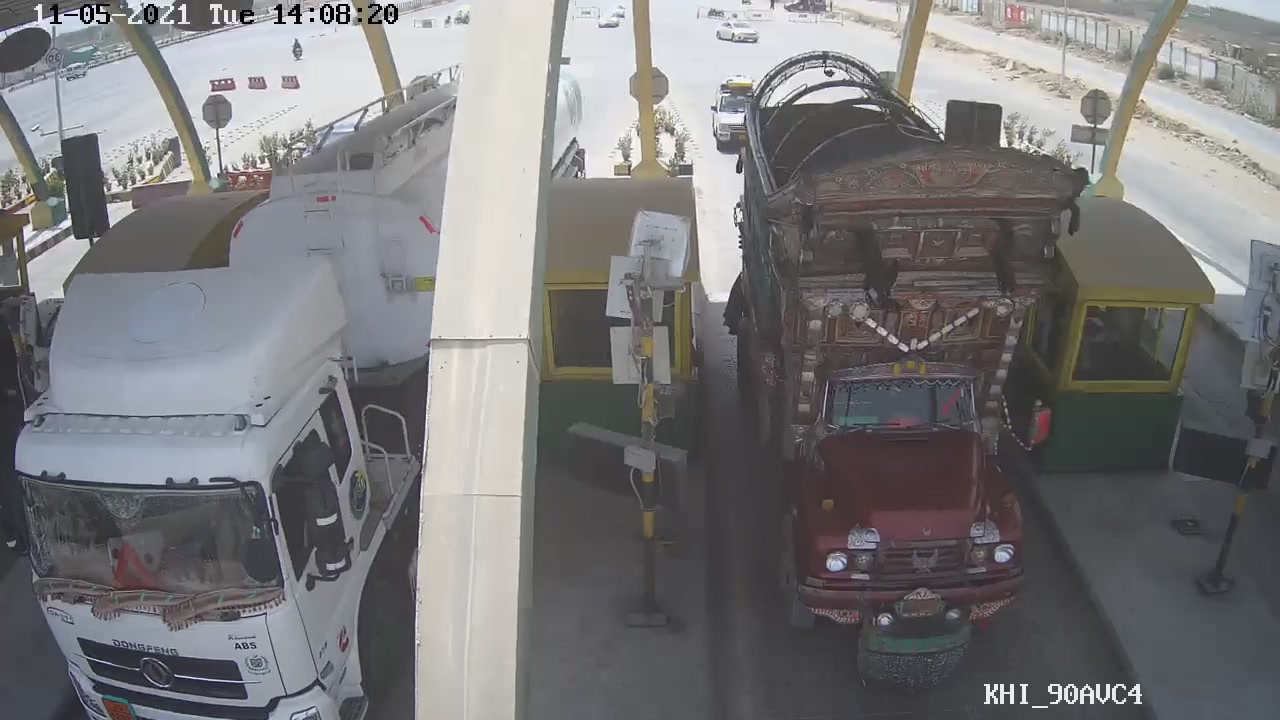F5: (721, 59, 1083, 692)
